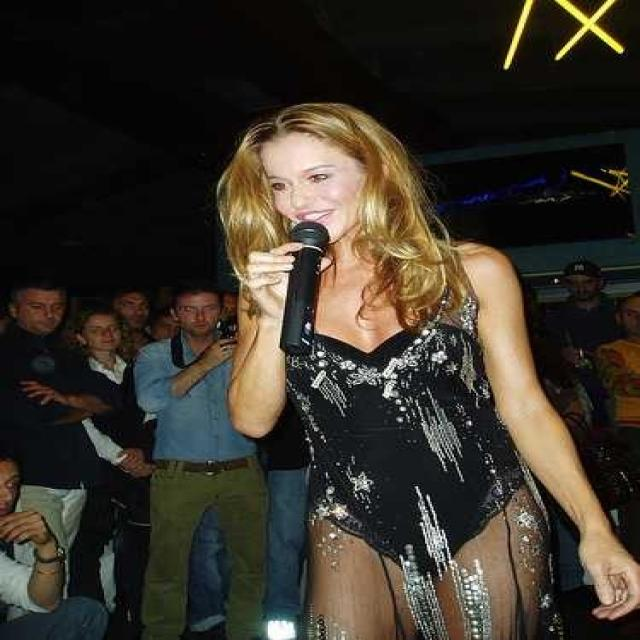microphone: (278, 221, 330, 355)
